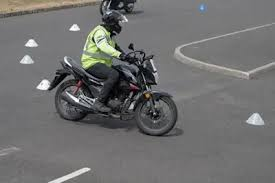motorcycle: (46, 45, 181, 132)
